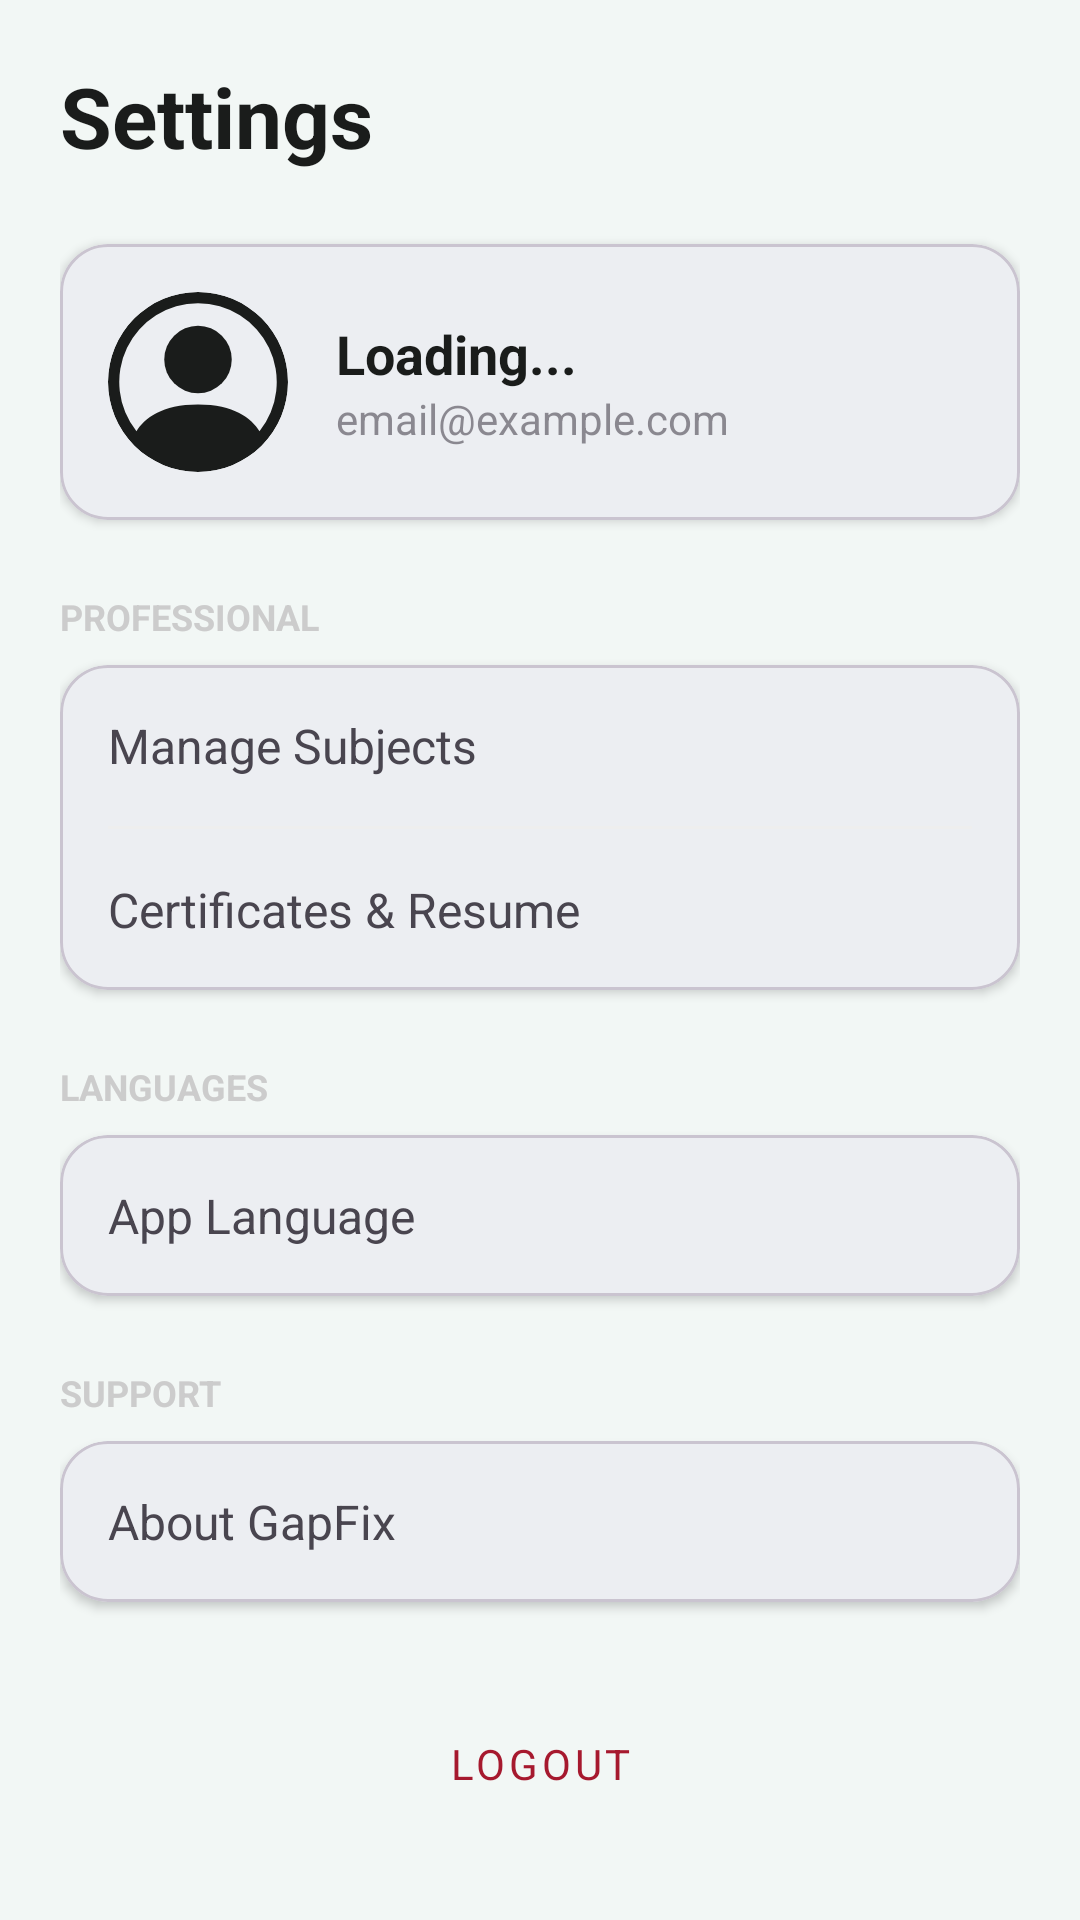

Point at icon controls on the screen. Image size 1080 × 1920, points as point (x, y).
person circle: point (198, 382)
